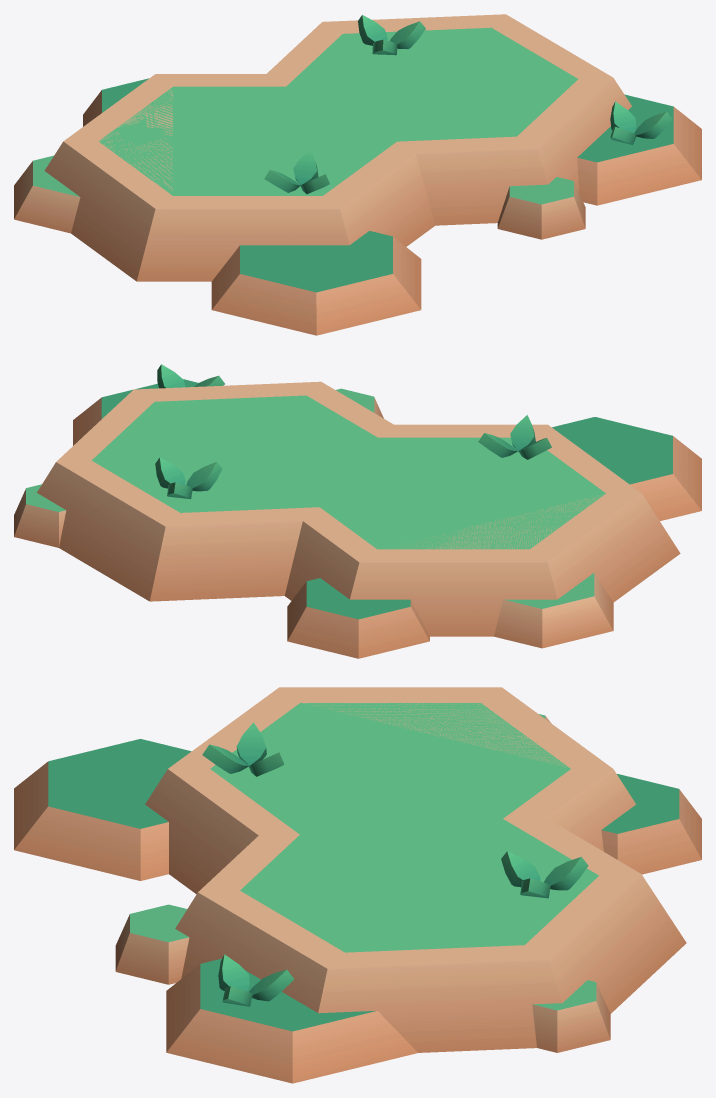
Rendered from rock-flat-grass.glb.
The picture shows the model from 3 angles, top to bottom: view 1: azimuth 30°, elevation 25°; view 2: azimuth 150°, elevation 25°; view 3: azimuth 270°, elevation 25°; orthographic projection. The views are drawn at different scales.
Parts seen in each view (by area): view 1: rock-flat-grass; view 2: rock-flat-grass; view 3: rock-flat-grass.
Part boxes in pixels (x1,y1,x2,y2): rock-flat-grass: (14,14,701,335); rock-flat-grass: (14,364,701,658); rock-flat-grass: (14,687,701,1083).
Bounding box in the file's own units: 1.79 × 0.2257 × 1.45.
1 material, 1 textured.
